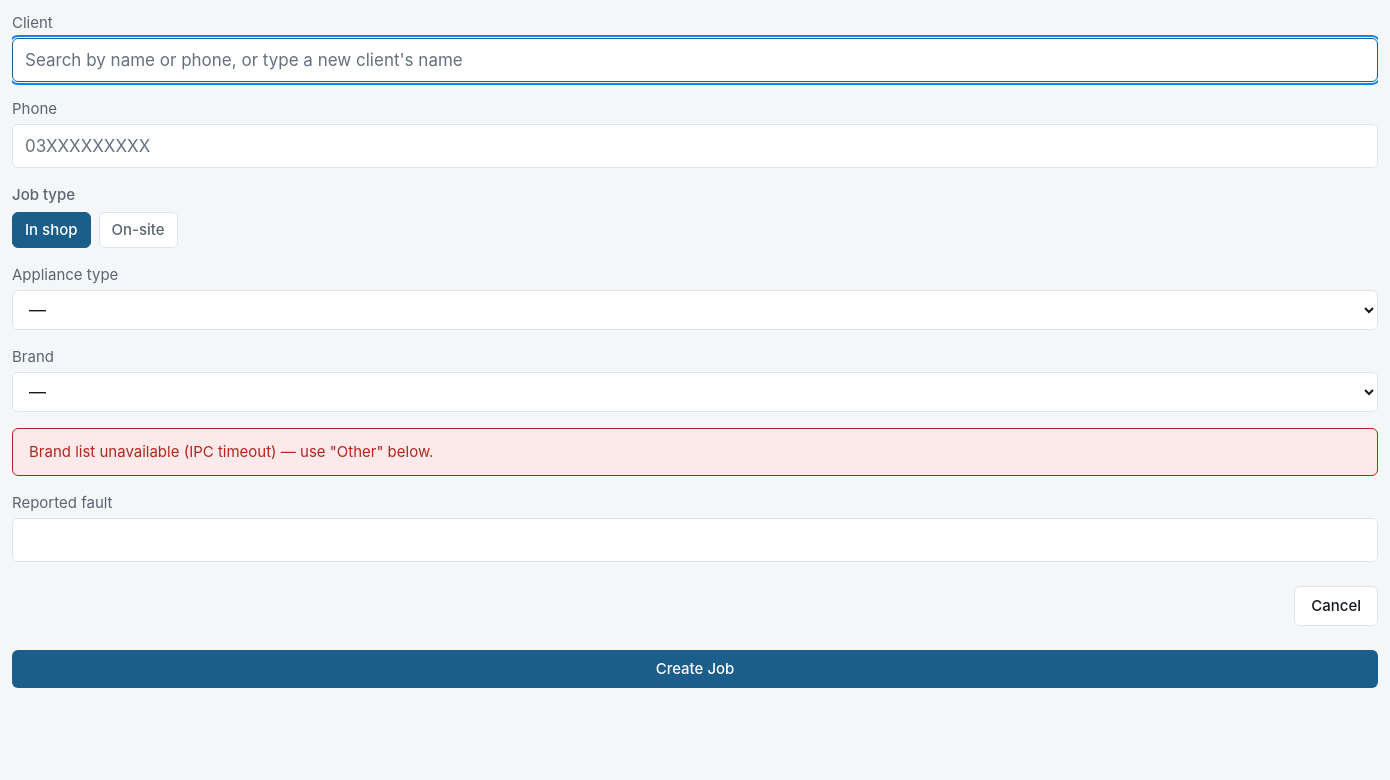
Test: JobCreateForm (P14-2) › P16-2: if the brand list fails to load, intake is never blocked — "Other" is still selectable and an error is shown
Expected: the text "Brand list unavailable (IPC timeout) — use \"Other\" below." is shown, [29, 441, 433, 463]
Select "Other" in the dropdown labelled "Brand" at (695, 392), box [12, 372, 1378, 412]
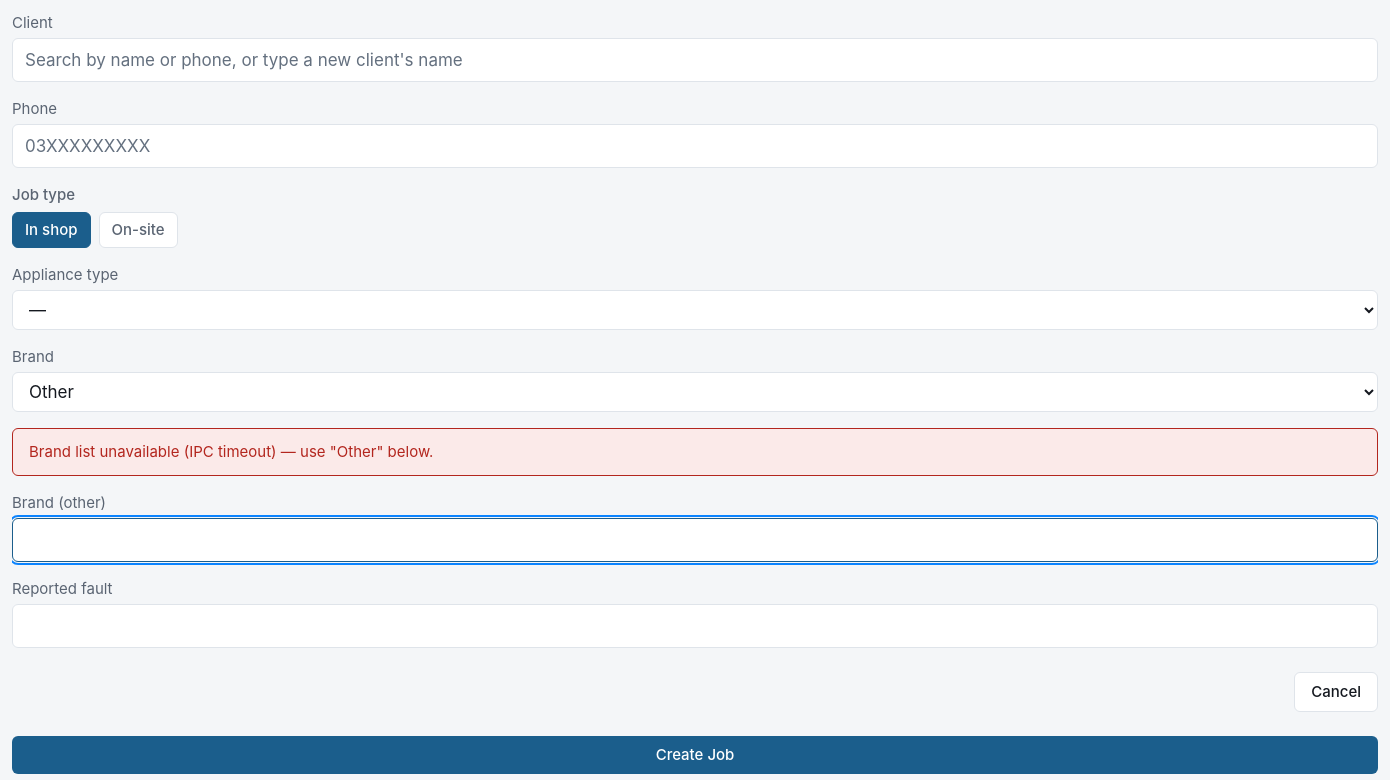
Expected: the field labelled "Brand (other)" is shown, [12, 518, 1378, 562]
